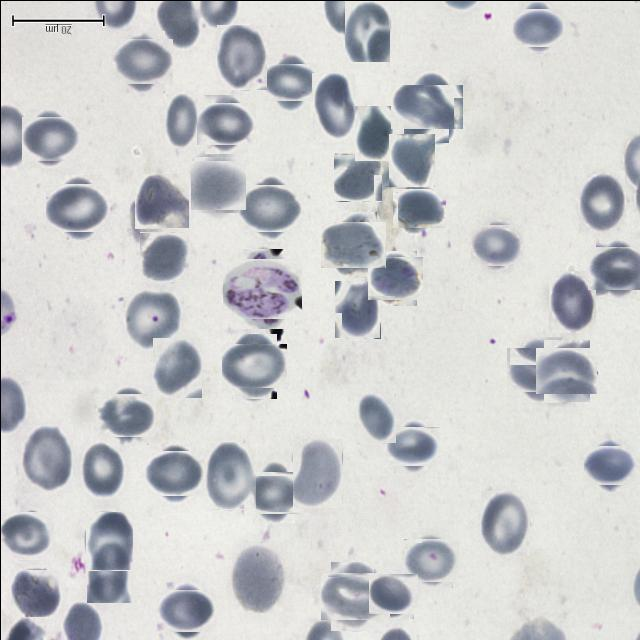red blood cell: (231, 542, 284, 612), (124, 287, 180, 351), (20, 424, 72, 492), (292, 438, 342, 508), (205, 441, 256, 509), (325, 566, 383, 625), (396, 77, 455, 135), (216, 24, 267, 90), (480, 490, 530, 556), (49, 178, 105, 235), (325, 216, 381, 272), (242, 179, 297, 235), (152, 337, 202, 398), (226, 338, 281, 393), (134, 173, 189, 228), (511, 342, 566, 396), (310, 72, 354, 139), (114, 34, 168, 88), (539, 343, 593, 397), (548, 270, 595, 332), (578, 170, 624, 232), (344, 0, 390, 62), (85, 511, 133, 570), (148, 446, 201, 499), (192, 157, 244, 210), (24, 112, 76, 164), (0, 510, 52, 562), (334, 280, 380, 338), (86, 544, 131, 602), (101, 389, 152, 440), (200, 98, 251, 149), (160, 585, 211, 636), (248, 466, 298, 518), (80, 440, 124, 498), (406, 534, 456, 584), (138, 231, 188, 281), (369, 253, 419, 302), (592, 243, 640, 294), (388, 133, 434, 186), (264, 58, 314, 106), (333, 152, 381, 200), (12, 569, 59, 617), (473, 221, 520, 268), (390, 422, 436, 468), (586, 442, 632, 488), (395, 184, 441, 230), (354, 105, 392, 160), (370, 570, 416, 615), (515, 4, 559, 49), (357, 393, 396, 443), (164, 93, 198, 148)
trophozoite: (227, 253, 297, 323)
